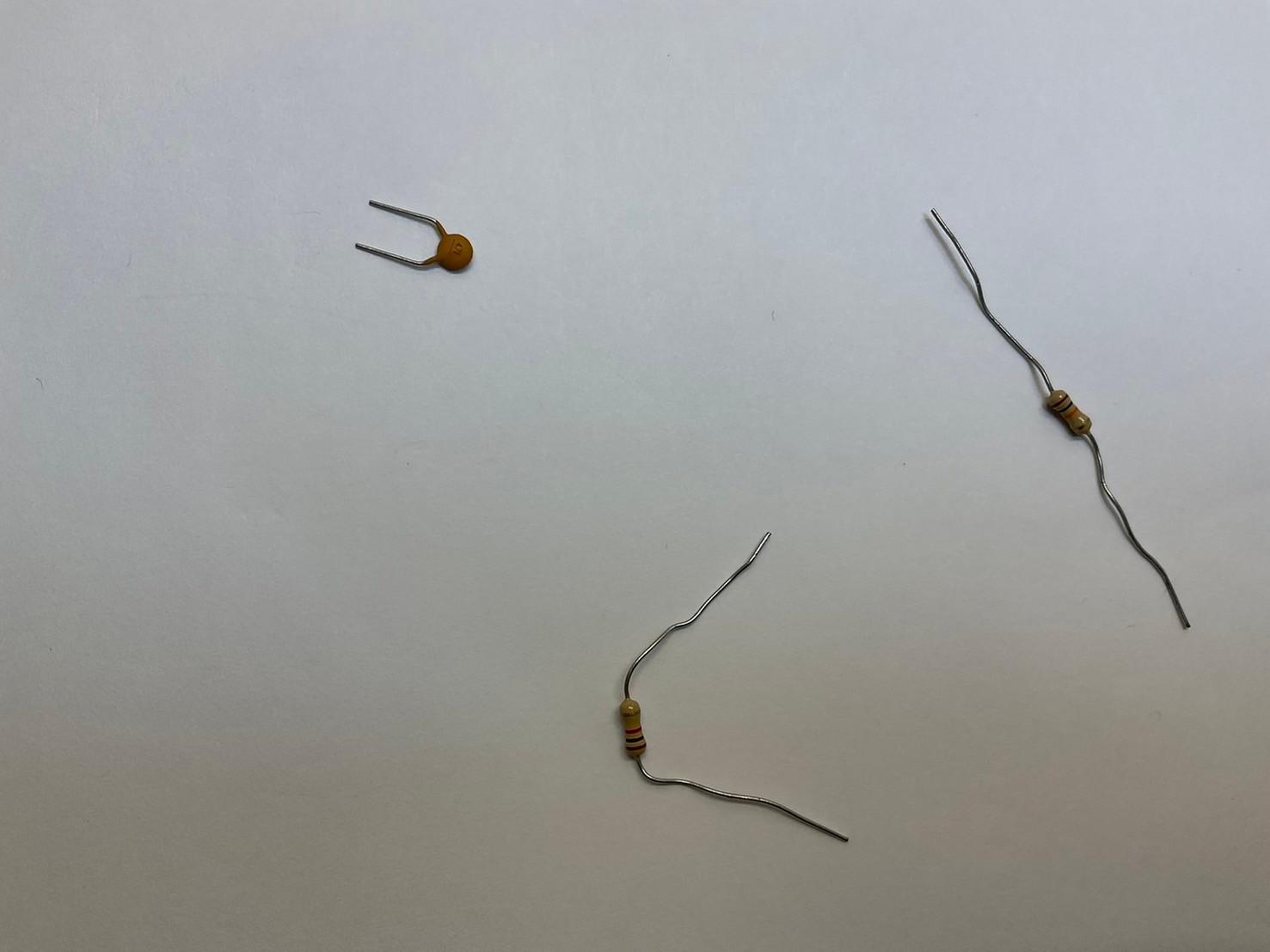resistor: (1043, 386, 1094, 440), (620, 697, 650, 766)
